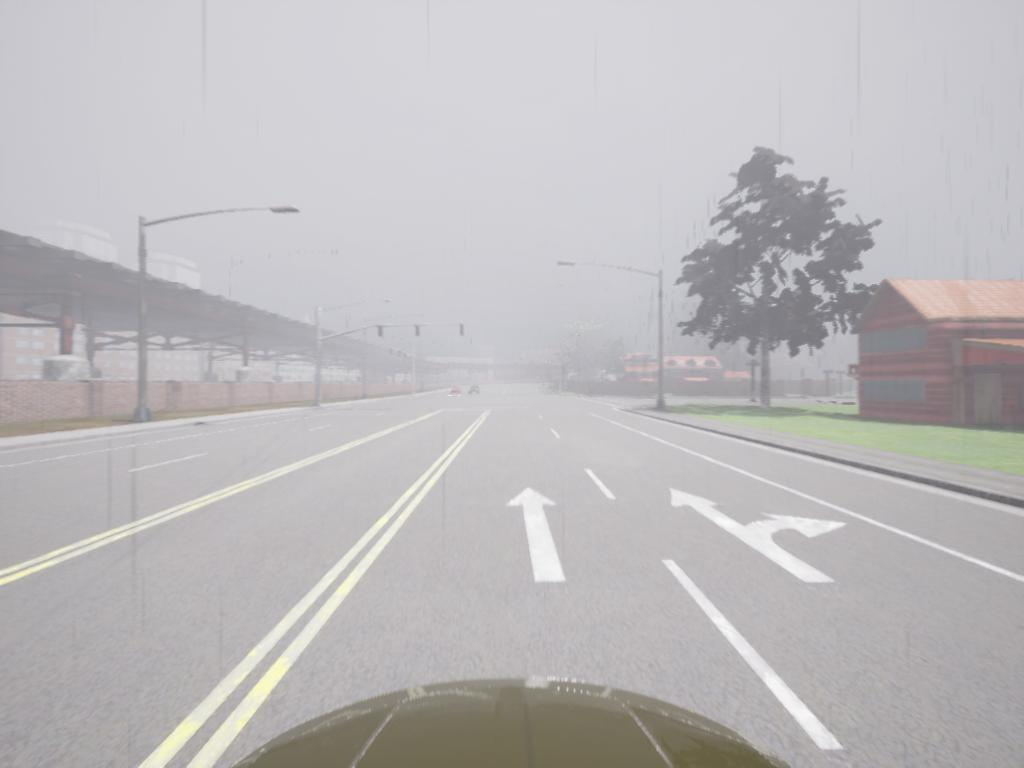traffic_light: (378, 326, 384, 338), (416, 326, 421, 339), (460, 324, 464, 337)
